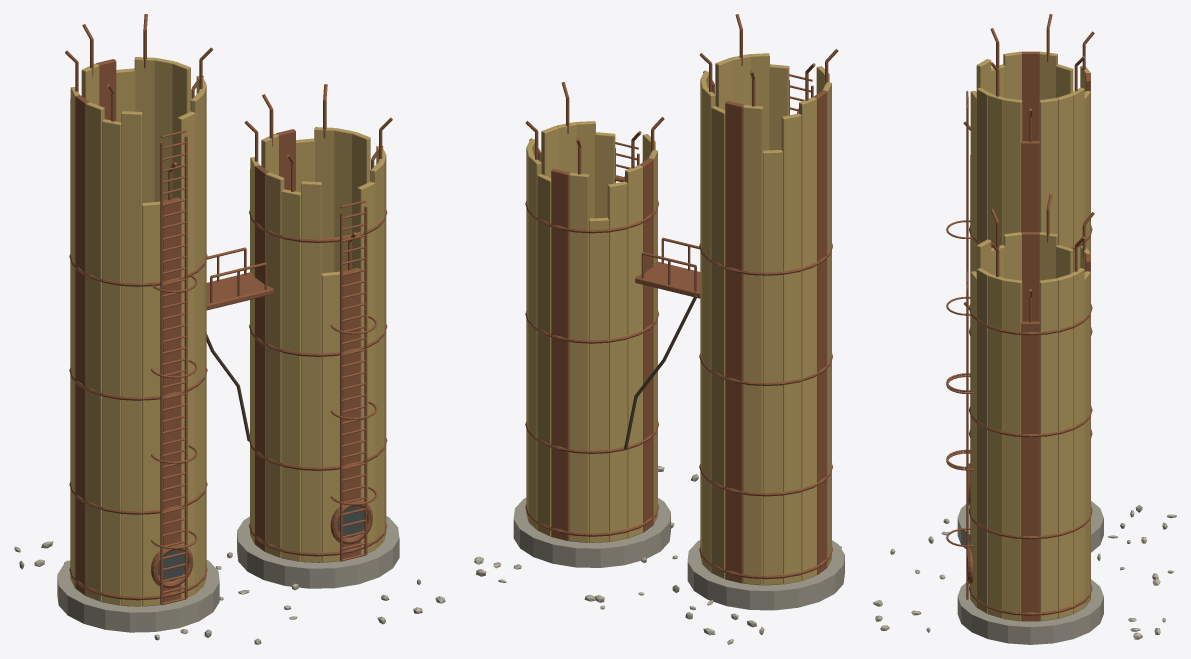
The model's file is Twin_Ruptured_Silos_Wasteland.glb.
3 renders of one model, left to right at view 1: azimuth 30°, elevation 25°; view 2: azimuth 150°, elevation 25°; view 3: azimuth 270°, elevation 25°, orthographic. The views are drawn at different scales.
Visible parts, largest first — view 1: Structure; view 2: Structure; view 3: Structure.
Part boxes in pixels (x1=…): Structure: x1=14, y1=14, x2=445, y2=644; Structure: x1=474, y1=14, x2=844, y2=644; Structure: x1=873, y1=14, x2=1176, y2=644.
Size of the model in its own units: 11.8 by 19.54 by 10.8.
